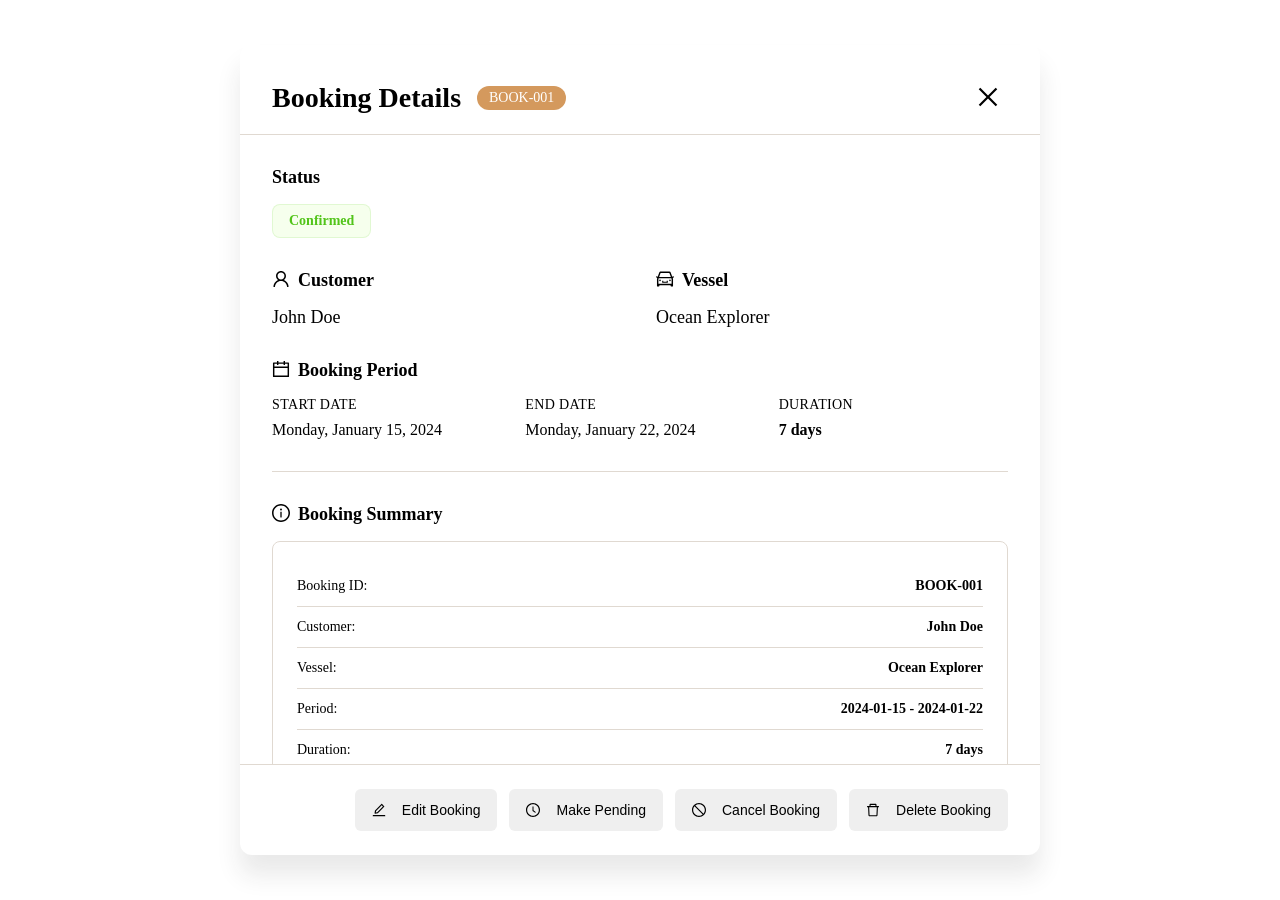
BookingDetailModal › Delete Confirmation Modal › cancels deletion when cancel button is clicked
The width and height of the screenshot is (1280, 900).
Note: Open delete confirmation
Click the button "Delete Booking".
click(928, 810)  # box [849,789,1008,831]
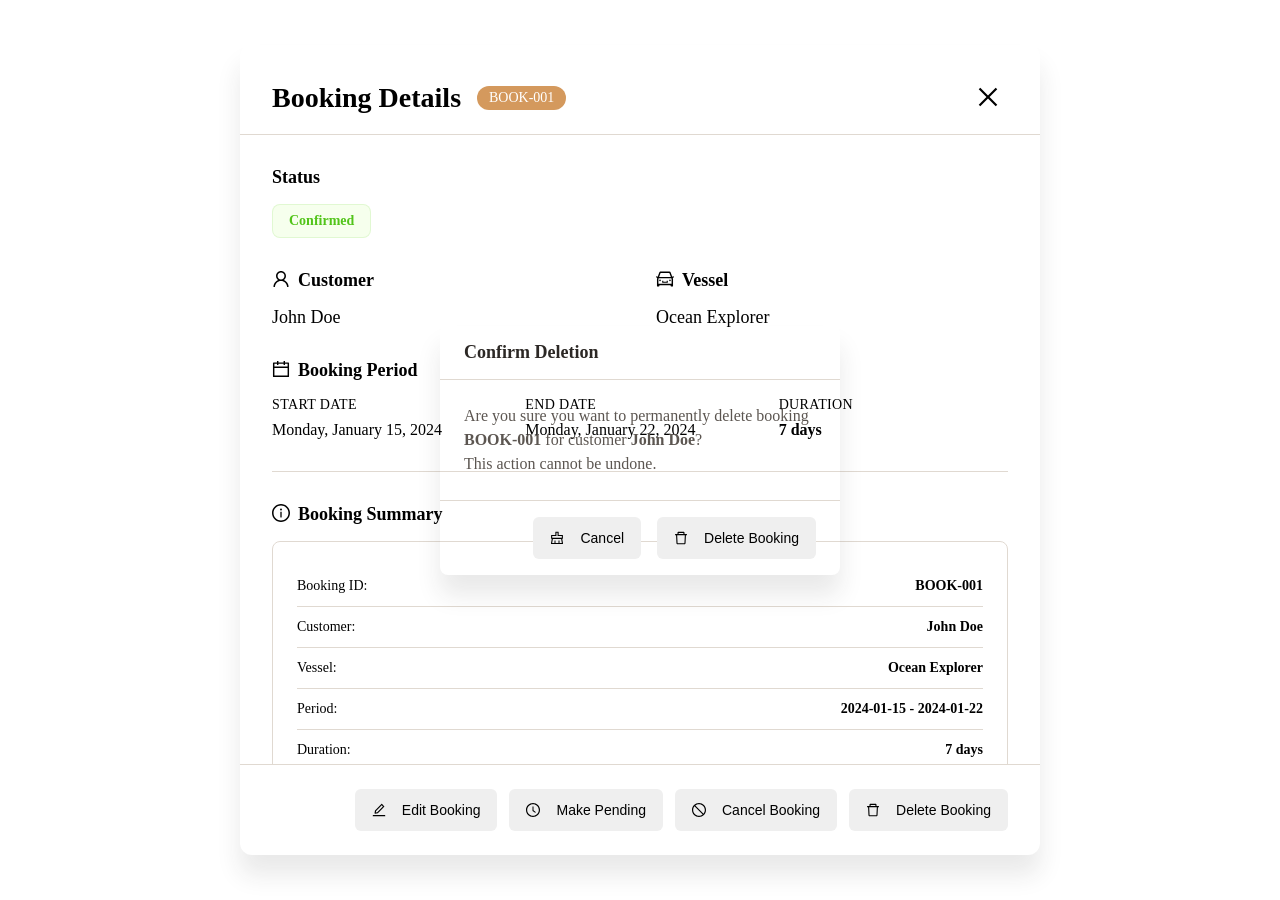
Note: Cancel deletion
Click the button "Cancel".
click(587, 538)  # box [534,516,641,558]
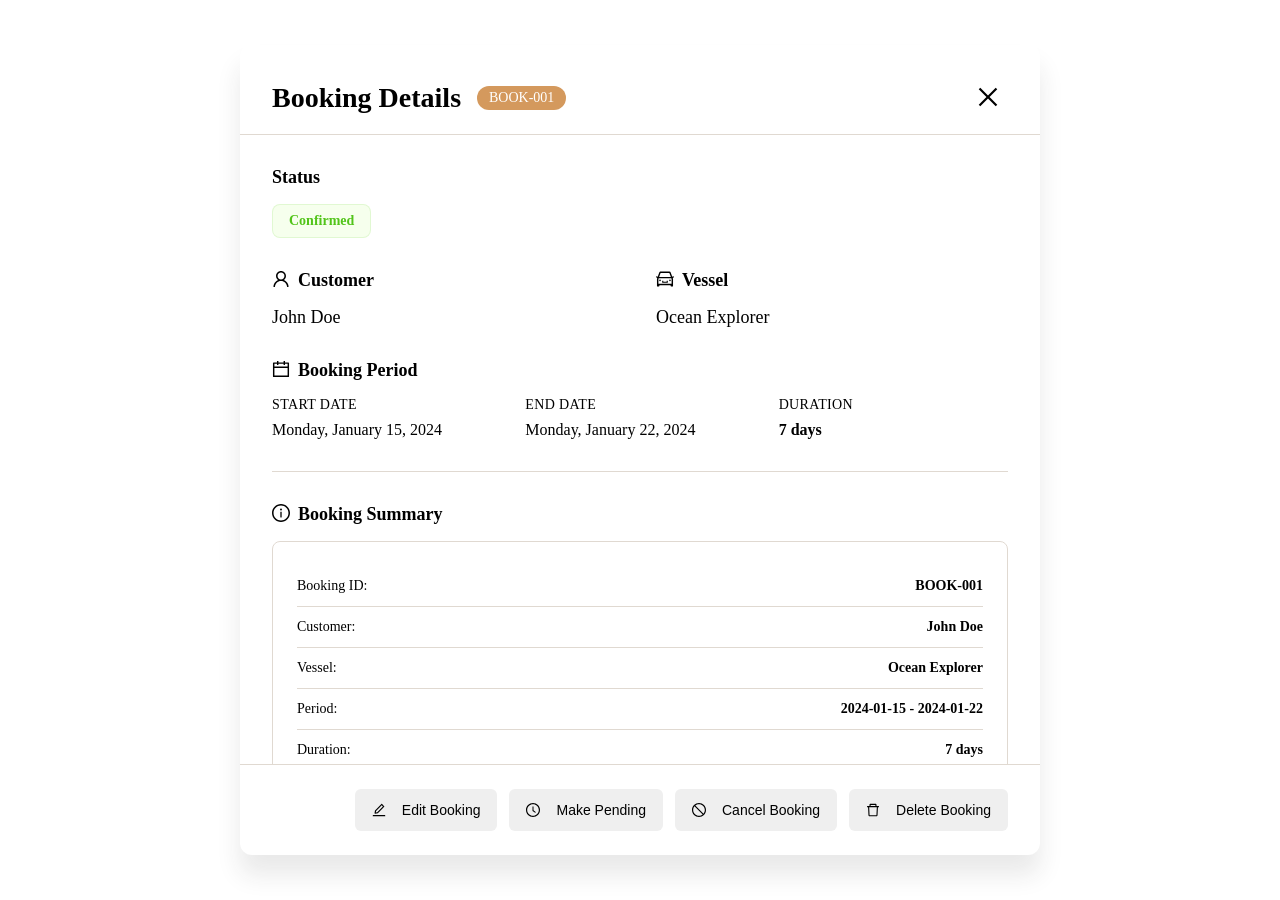
Result: the heading "Confirm Deletion" is gone
